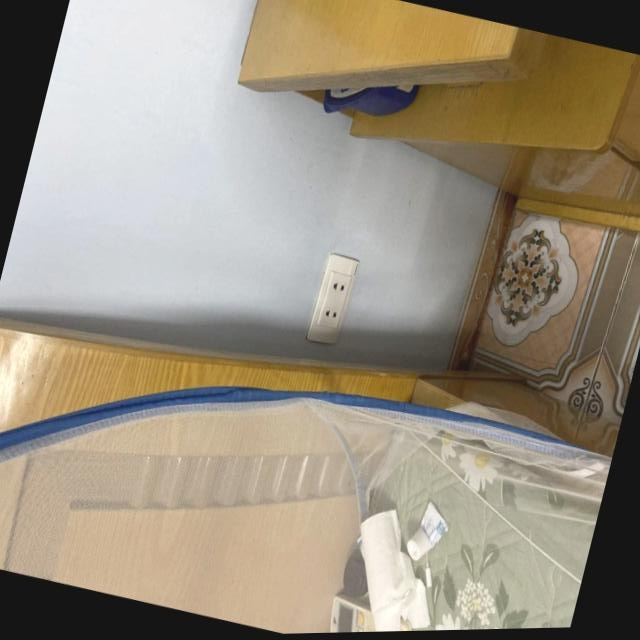outlet: (304, 252, 360, 349)
